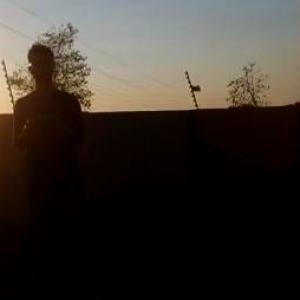follow: (12, 35, 92, 293)
